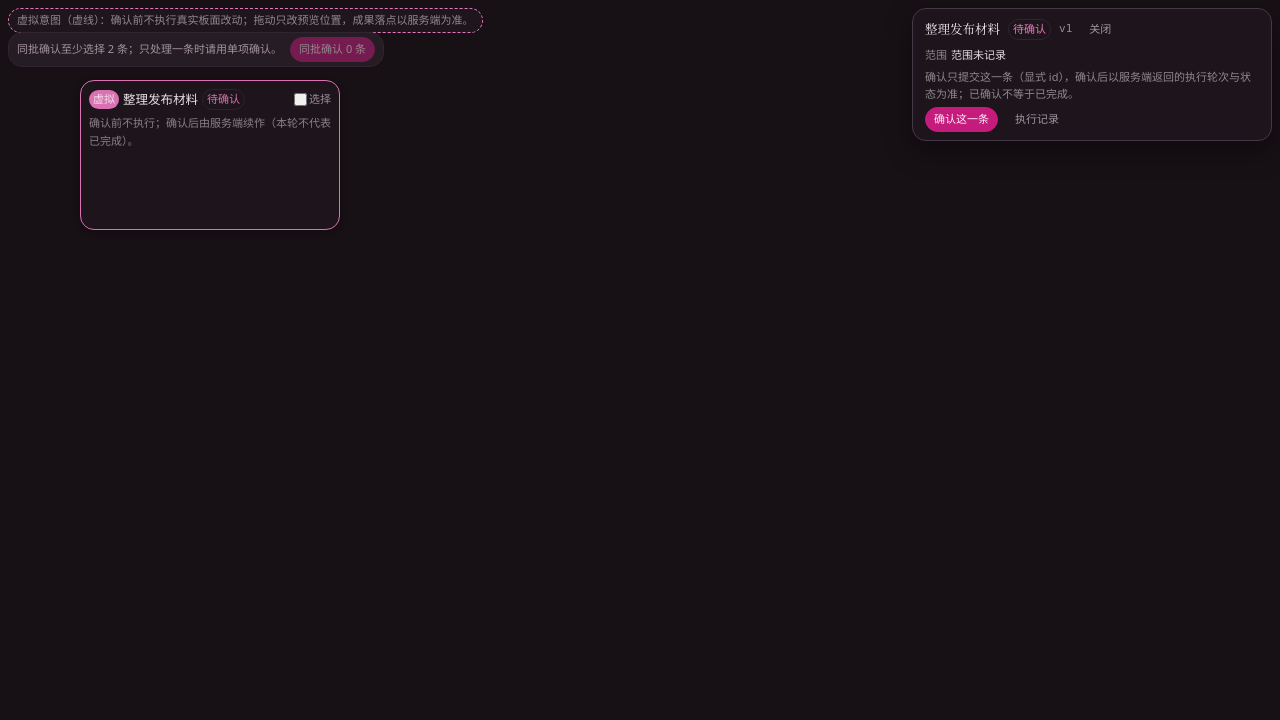
Scenario: IntentLayer：失败原因用户可见 › 单条确认 started=false：错误行包含真实原因（不是只有已确认）
Click the button "确认这一条": (962, 119) [925,107,998,132]
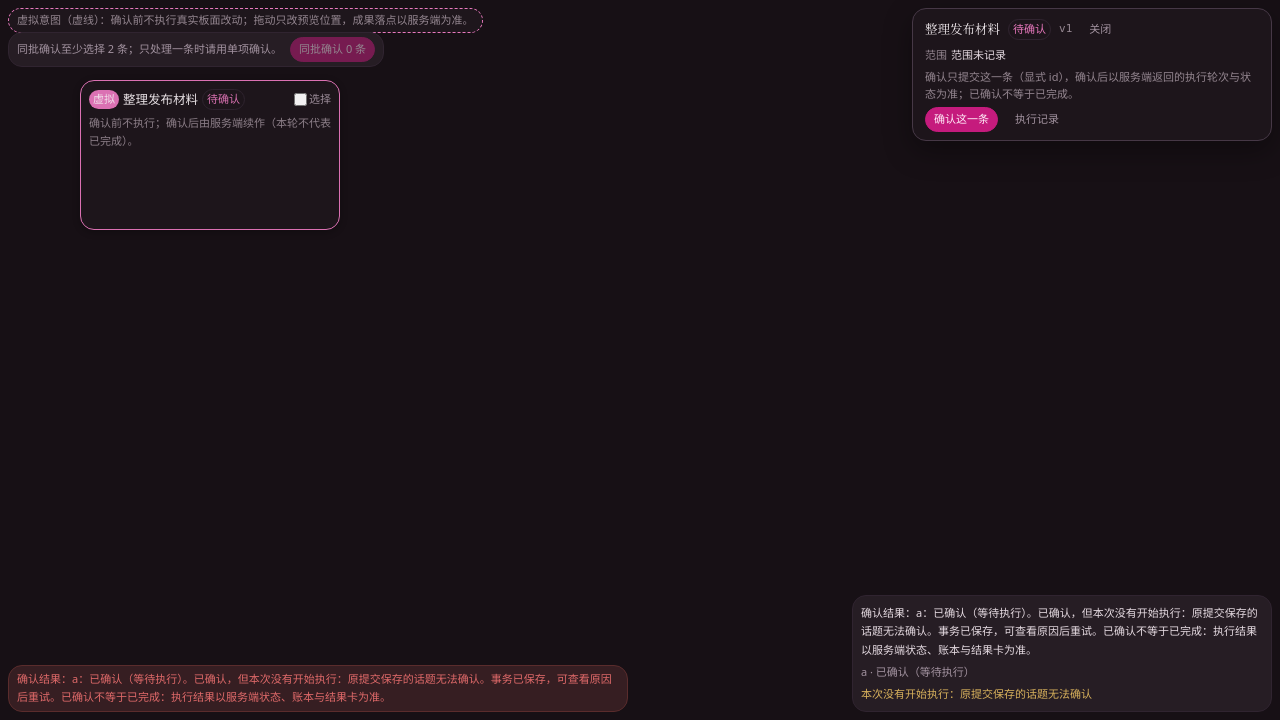
Check: the message is shown, box [8,665,628,712]
Check: the message shows "本次没有开始执行", box [17,671,612,704]
Check: the message shows "原提交保存的话题无法确认", box [17,671,612,704]
